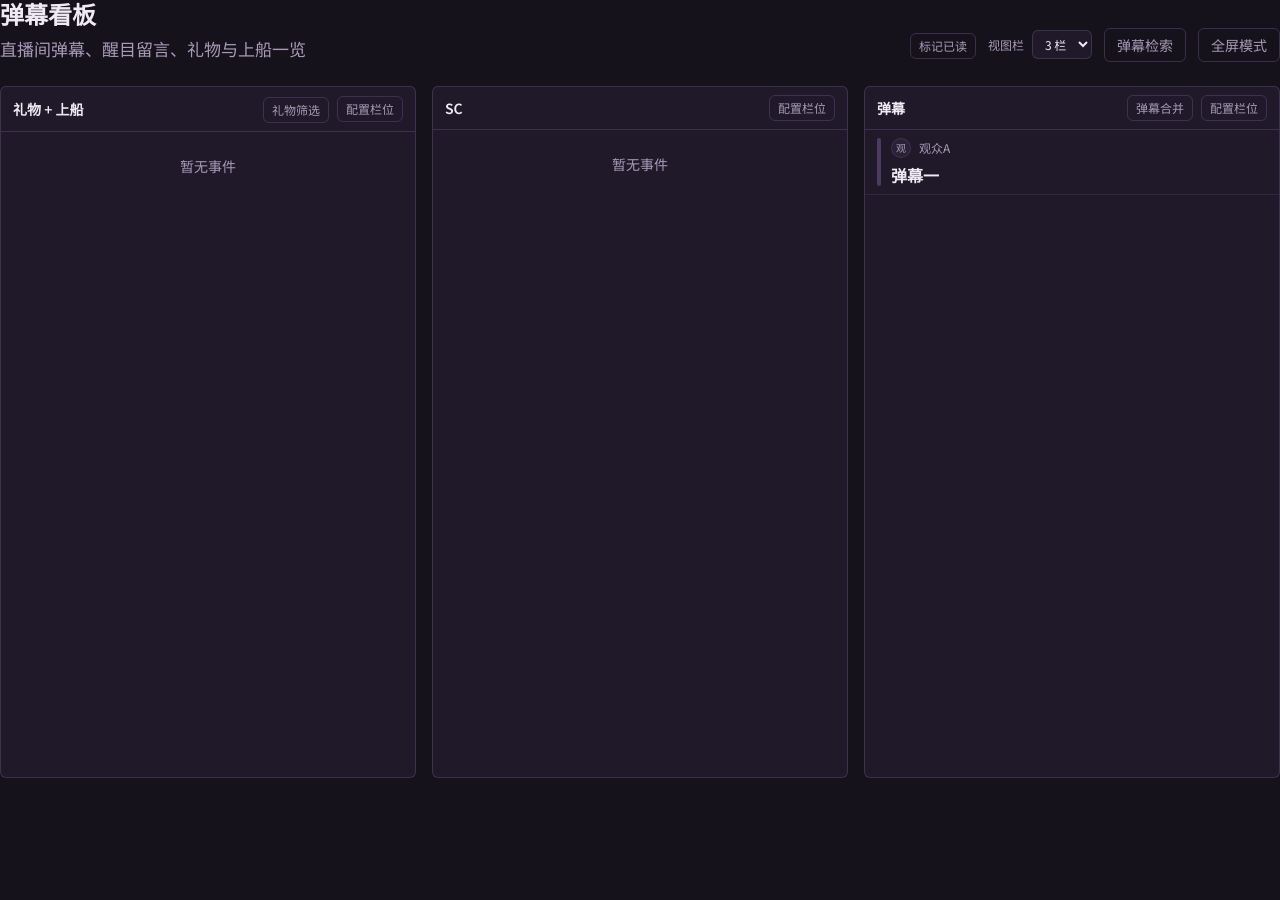
it: DanmakuPage 视图栏选择器 › 全屏后「视图栏」选择器与「退出全屏」同排且仍可用
The image size is (1280, 900).
Click the button "全屏模式" at [1239, 44], box [1198, 28, 1279, 62]
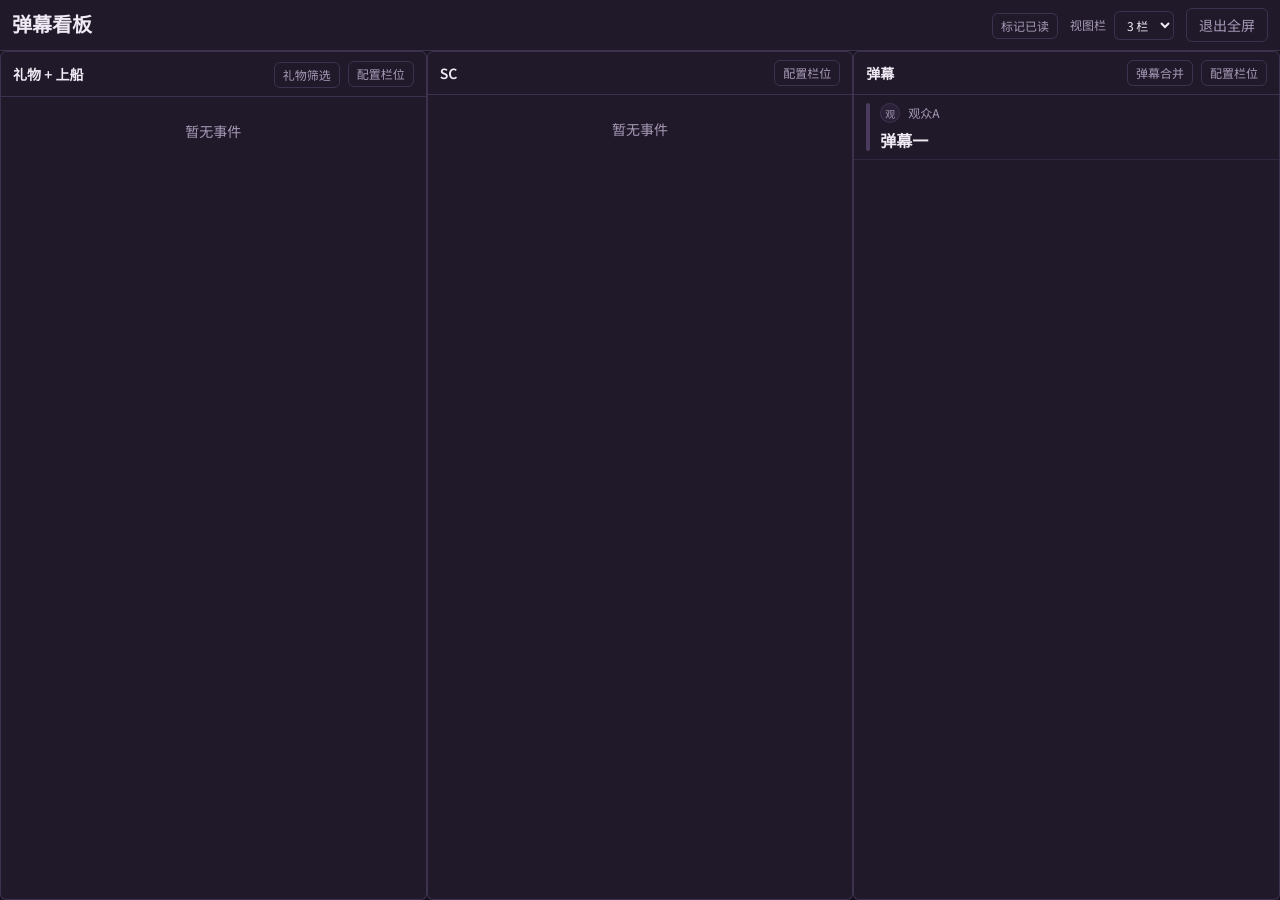
Expected: the button "退出全屏" is shown, [1186, 8, 1268, 42]
Select "2 栏" in the dropdown labelled "视图栏" at [1144, 25], box [1114, 10, 1174, 40]
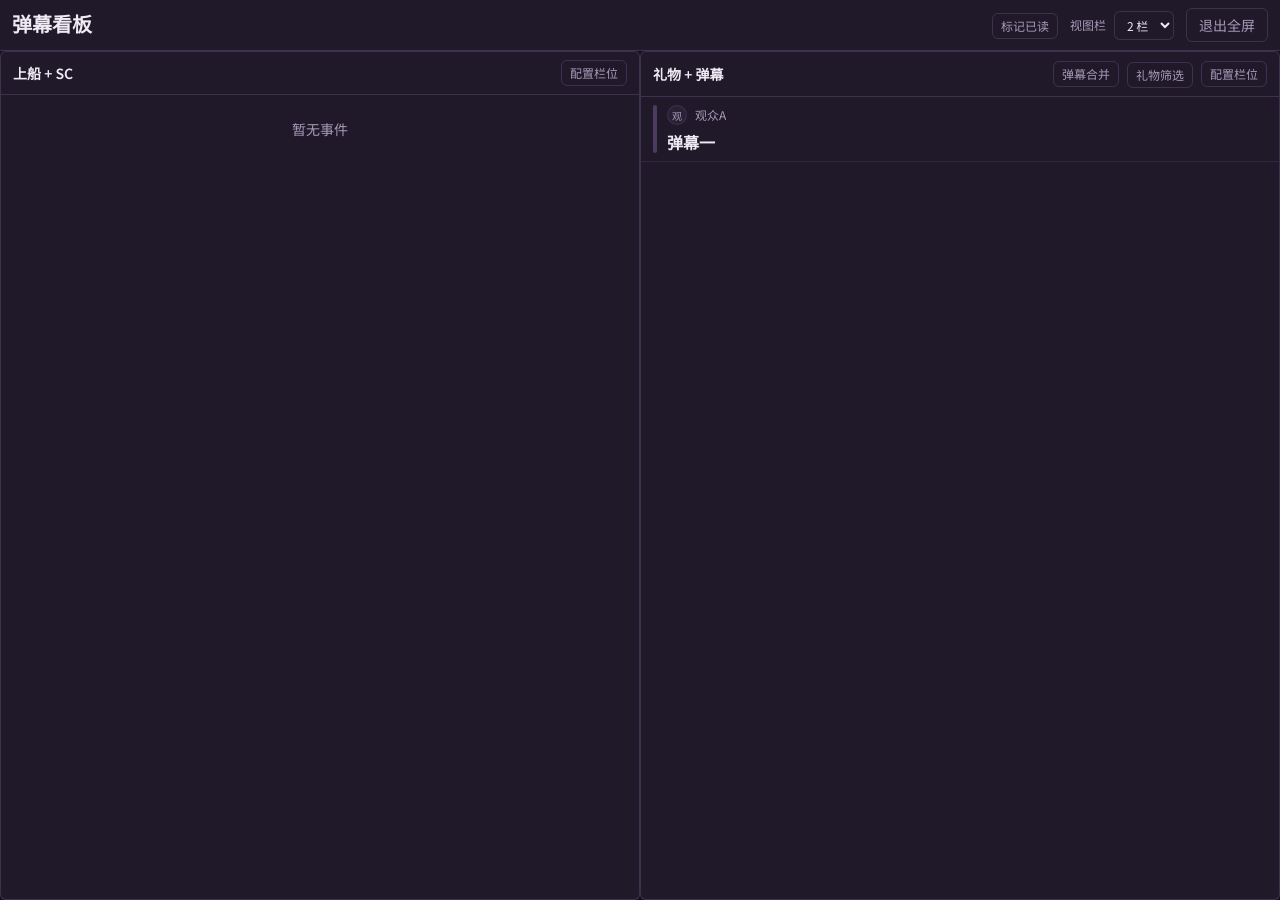
Expected: the heading "上船 + SC" is shown, [13, 63, 73, 83]
